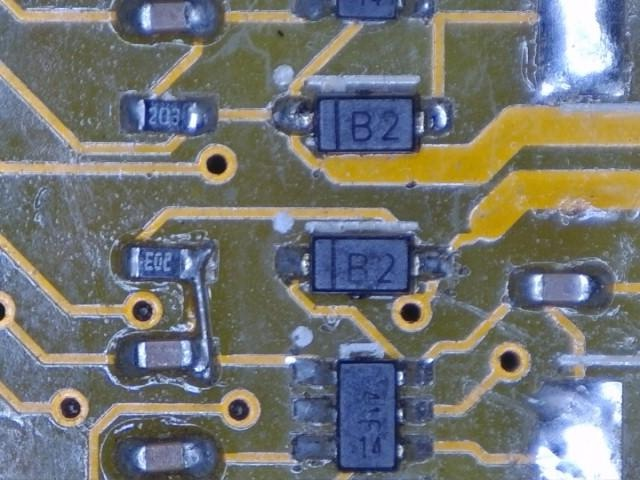pcb_defect: (179, 243, 216, 379), (274, 96, 313, 134), (292, 435, 336, 461), (186, 0, 215, 35), (396, 360, 433, 387), (293, 359, 332, 384), (293, 398, 332, 422), (276, 248, 308, 276), (403, 399, 434, 422), (404, 436, 432, 461)
